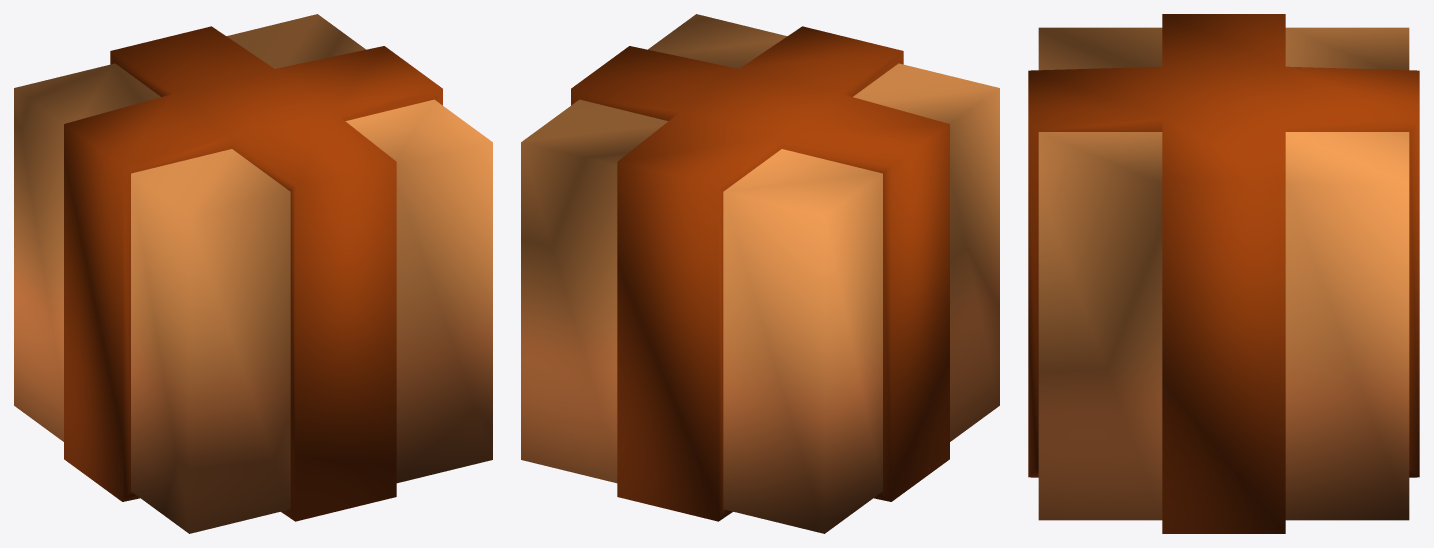
File: Caixa.fbx
3 renders of one model, left to right at view 1: azimuth 30°, elevation 25°; view 2: azimuth 150°, elevation 25°; view 3: azimuth 270°, elevation 25°, orthographic. The views are drawn at different scales.
Visible parts, largest first — view 1: Caixa; view 2: Caixa; view 3: Caixa.
Part boxes in pixels (<box>): Caixa: <box>14,14,492,533</box>; Caixa: <box>521,14,999,533</box>; Caixa: <box>1028,14,1419,533</box>.
Size of the model in its own units: 24.08 by 24.6 by 24.08.
1 material, 1 textured.
